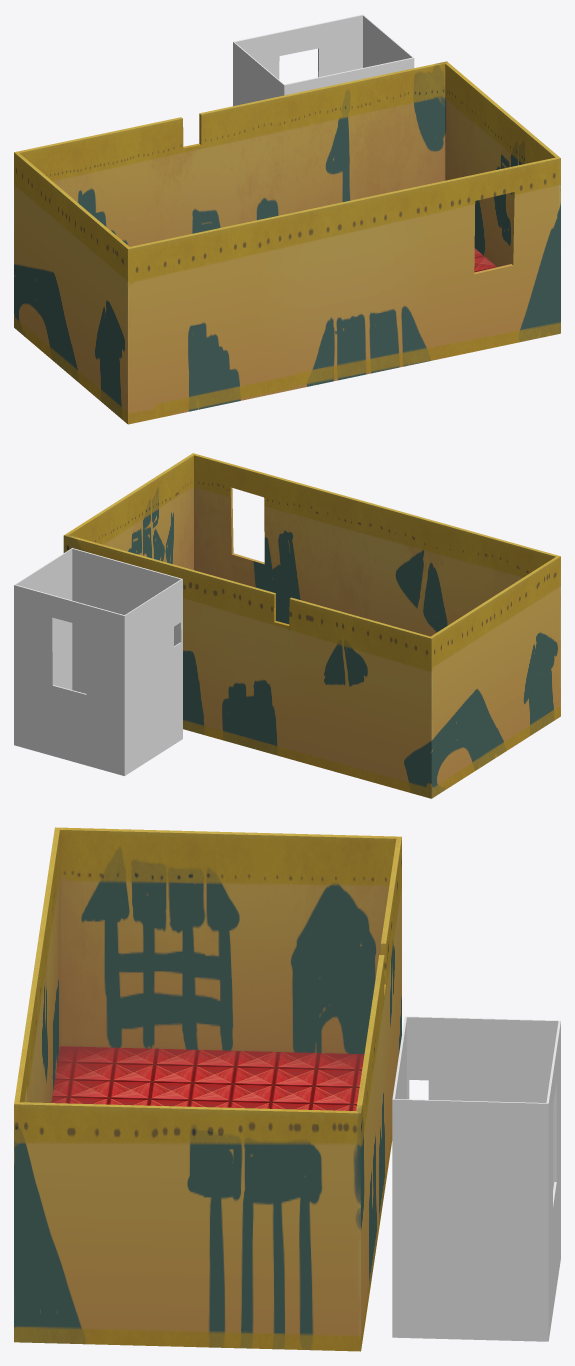
Rendered from CellingTest.fbx.
The picture shows the model from 3 angles, top to bottom: view 1: azimuth 30°, elevation 25°; view 2: azimuth 150°, elevation 25°; view 3: azimuth 270°, elevation 25°; orthographic projection. The views are drawn at different scales.
Visible parts, largest first — view 1: Ceiling, Ceiling__1_; view 2: Ceiling, Ceiling__1_; view 3: Ceiling, Ceiling__1_.
Part boxes in pixels (x1=…): Ceiling: x1=14, y1=61, x2=560, y2=424; Ceiling__1_: x1=233, y1=14, x2=414, y2=106; Ceiling: x1=63, y1=453, x2=560, y2=798; Ceiling__1_: x1=14, y1=548, x2=182, y2=775; Ceiling: x1=14, y1=827, x2=401, y2=1351; Ceiling__1_: x1=392, y1=1016, x2=560, y2=1341.
Size of the model in its own units: 3121 by 1212 by 2523.
